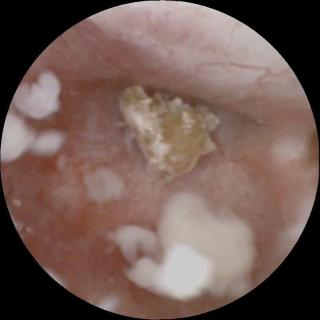stone: (117, 88, 217, 180)
tissue: (5, 5, 312, 314)
